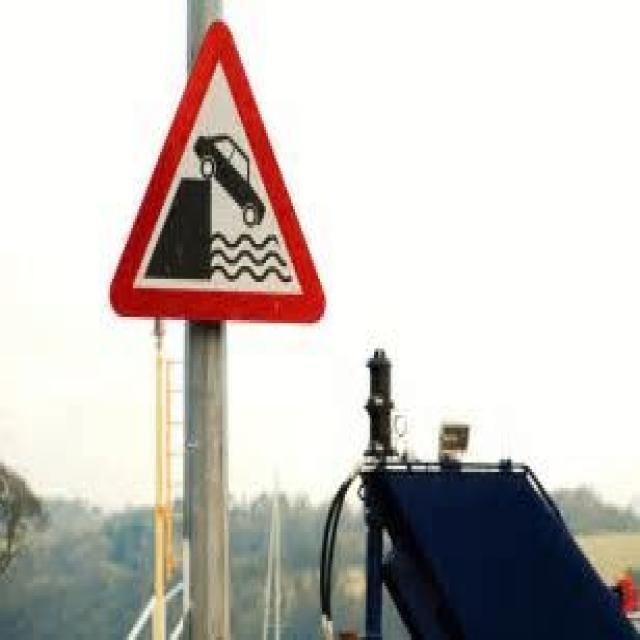quay side or river bank: (108, 21, 326, 333)
